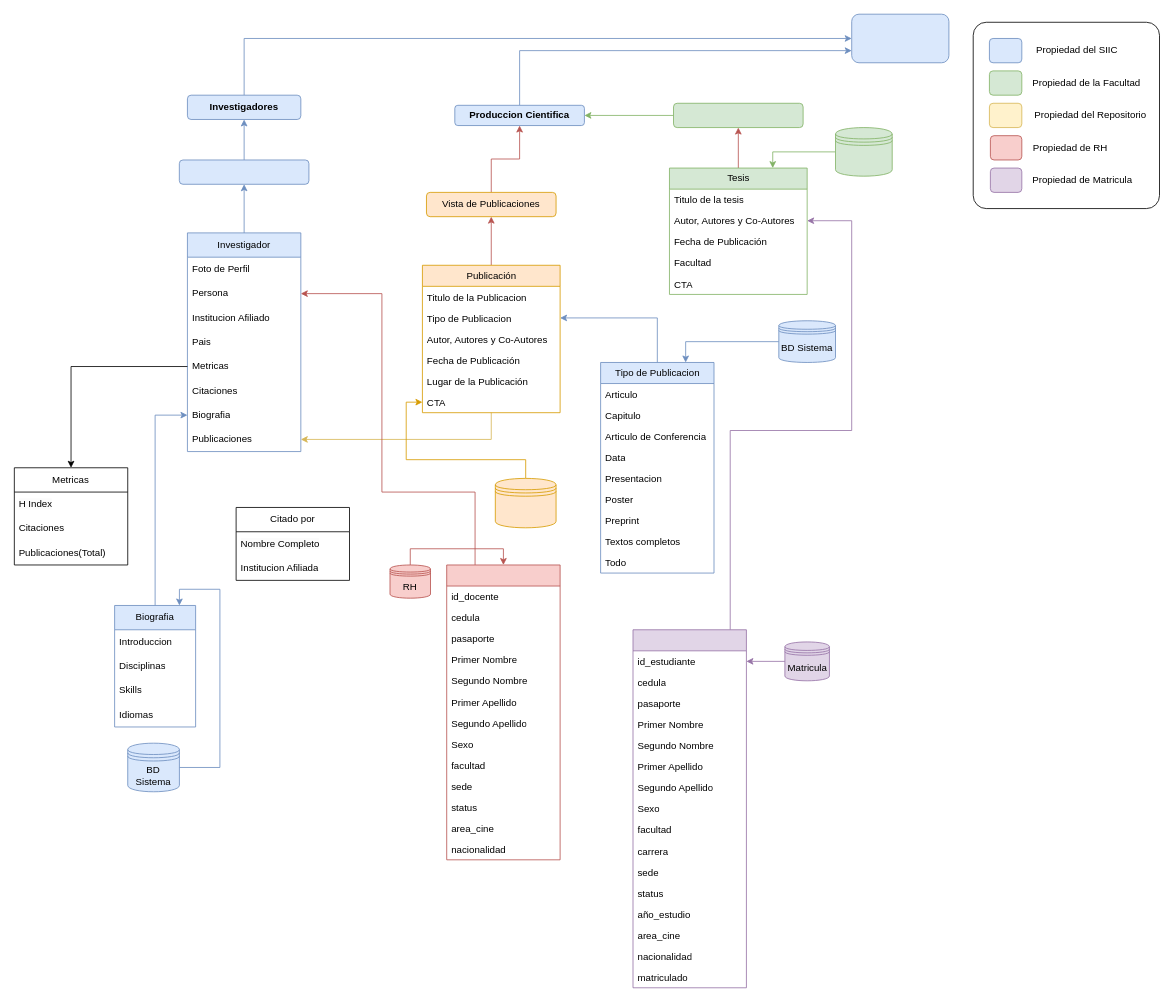
Image size: 1174x1004. Some labels were removed from this diagram. Each missing label, with the box of its shape:
BD Facultades: (835, 127, 892, 176)
personaDocente: (446, 564, 560, 860)
personaEstudiante: (632, 629, 746, 988)
Repositorio: (495, 478, 556, 528)
SIIC: (851, 13, 949, 63)
Vista de Investigadores: (179, 159, 309, 184)
Vista de Tesis: (673, 102, 803, 128)
